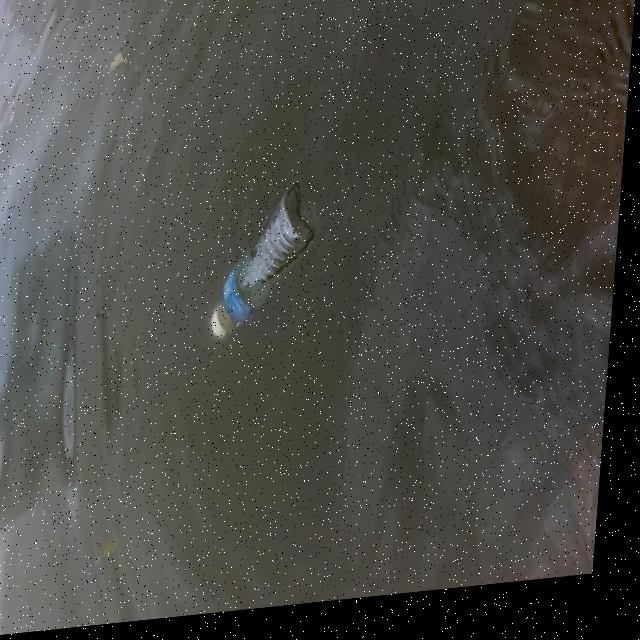waterbottle: (185, 181, 338, 353)
